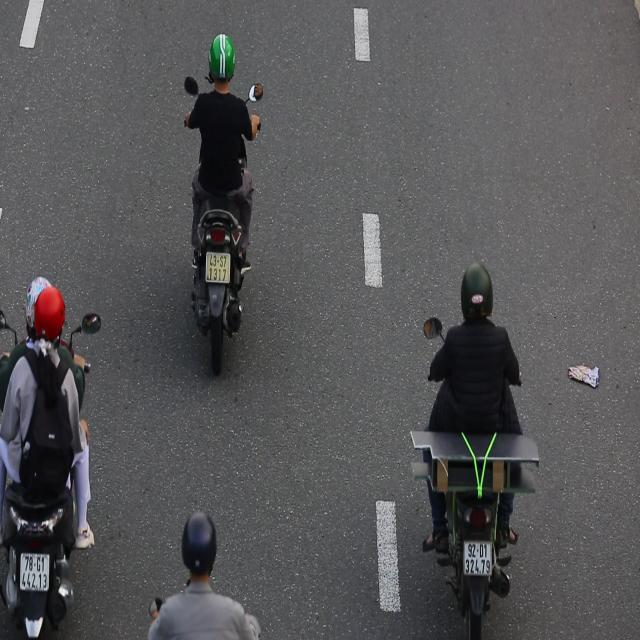motorbike: (421, 254, 530, 640), (0, 267, 99, 639), (180, 31, 266, 384)
